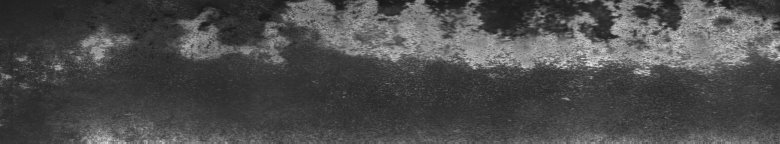kb: (171, 4, 776, 102)
